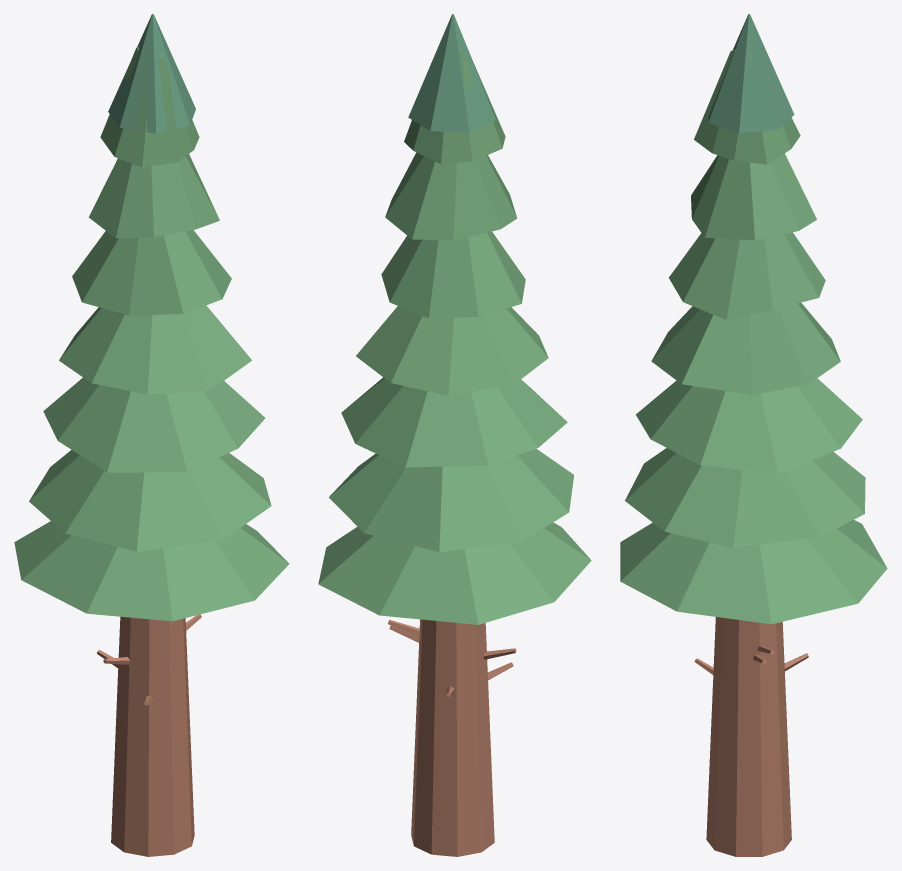
Rendered from Tree_Redwood.fbx.
3 renders of one model, left to right at view 1: azimuth 30°, elevation 25°; view 2: azimuth 150°, elevation 25°; view 3: azimuth 270°, elevation 25°, orthographic.
Visible parts, largest first — view 1: Tree_Redwood_Mesh; view 2: Tree_Redwood_Mesh; view 3: Tree_Redwood_Mesh.
Boxes of the visible parts, bbox=[...] form: Tree_Redwood_Mesh: bbox=[14, 14, 289, 856]; Tree_Redwood_Mesh: bbox=[318, 14, 591, 856]; Tree_Redwood_Mesh: bbox=[620, 14, 887, 856].
Size of the model in its own units: 5.33 by 18.1 by 5.31.
